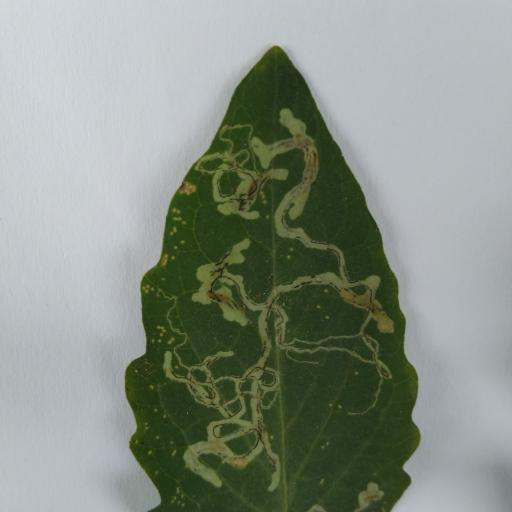disease_tomato: (120, 43, 423, 507)
